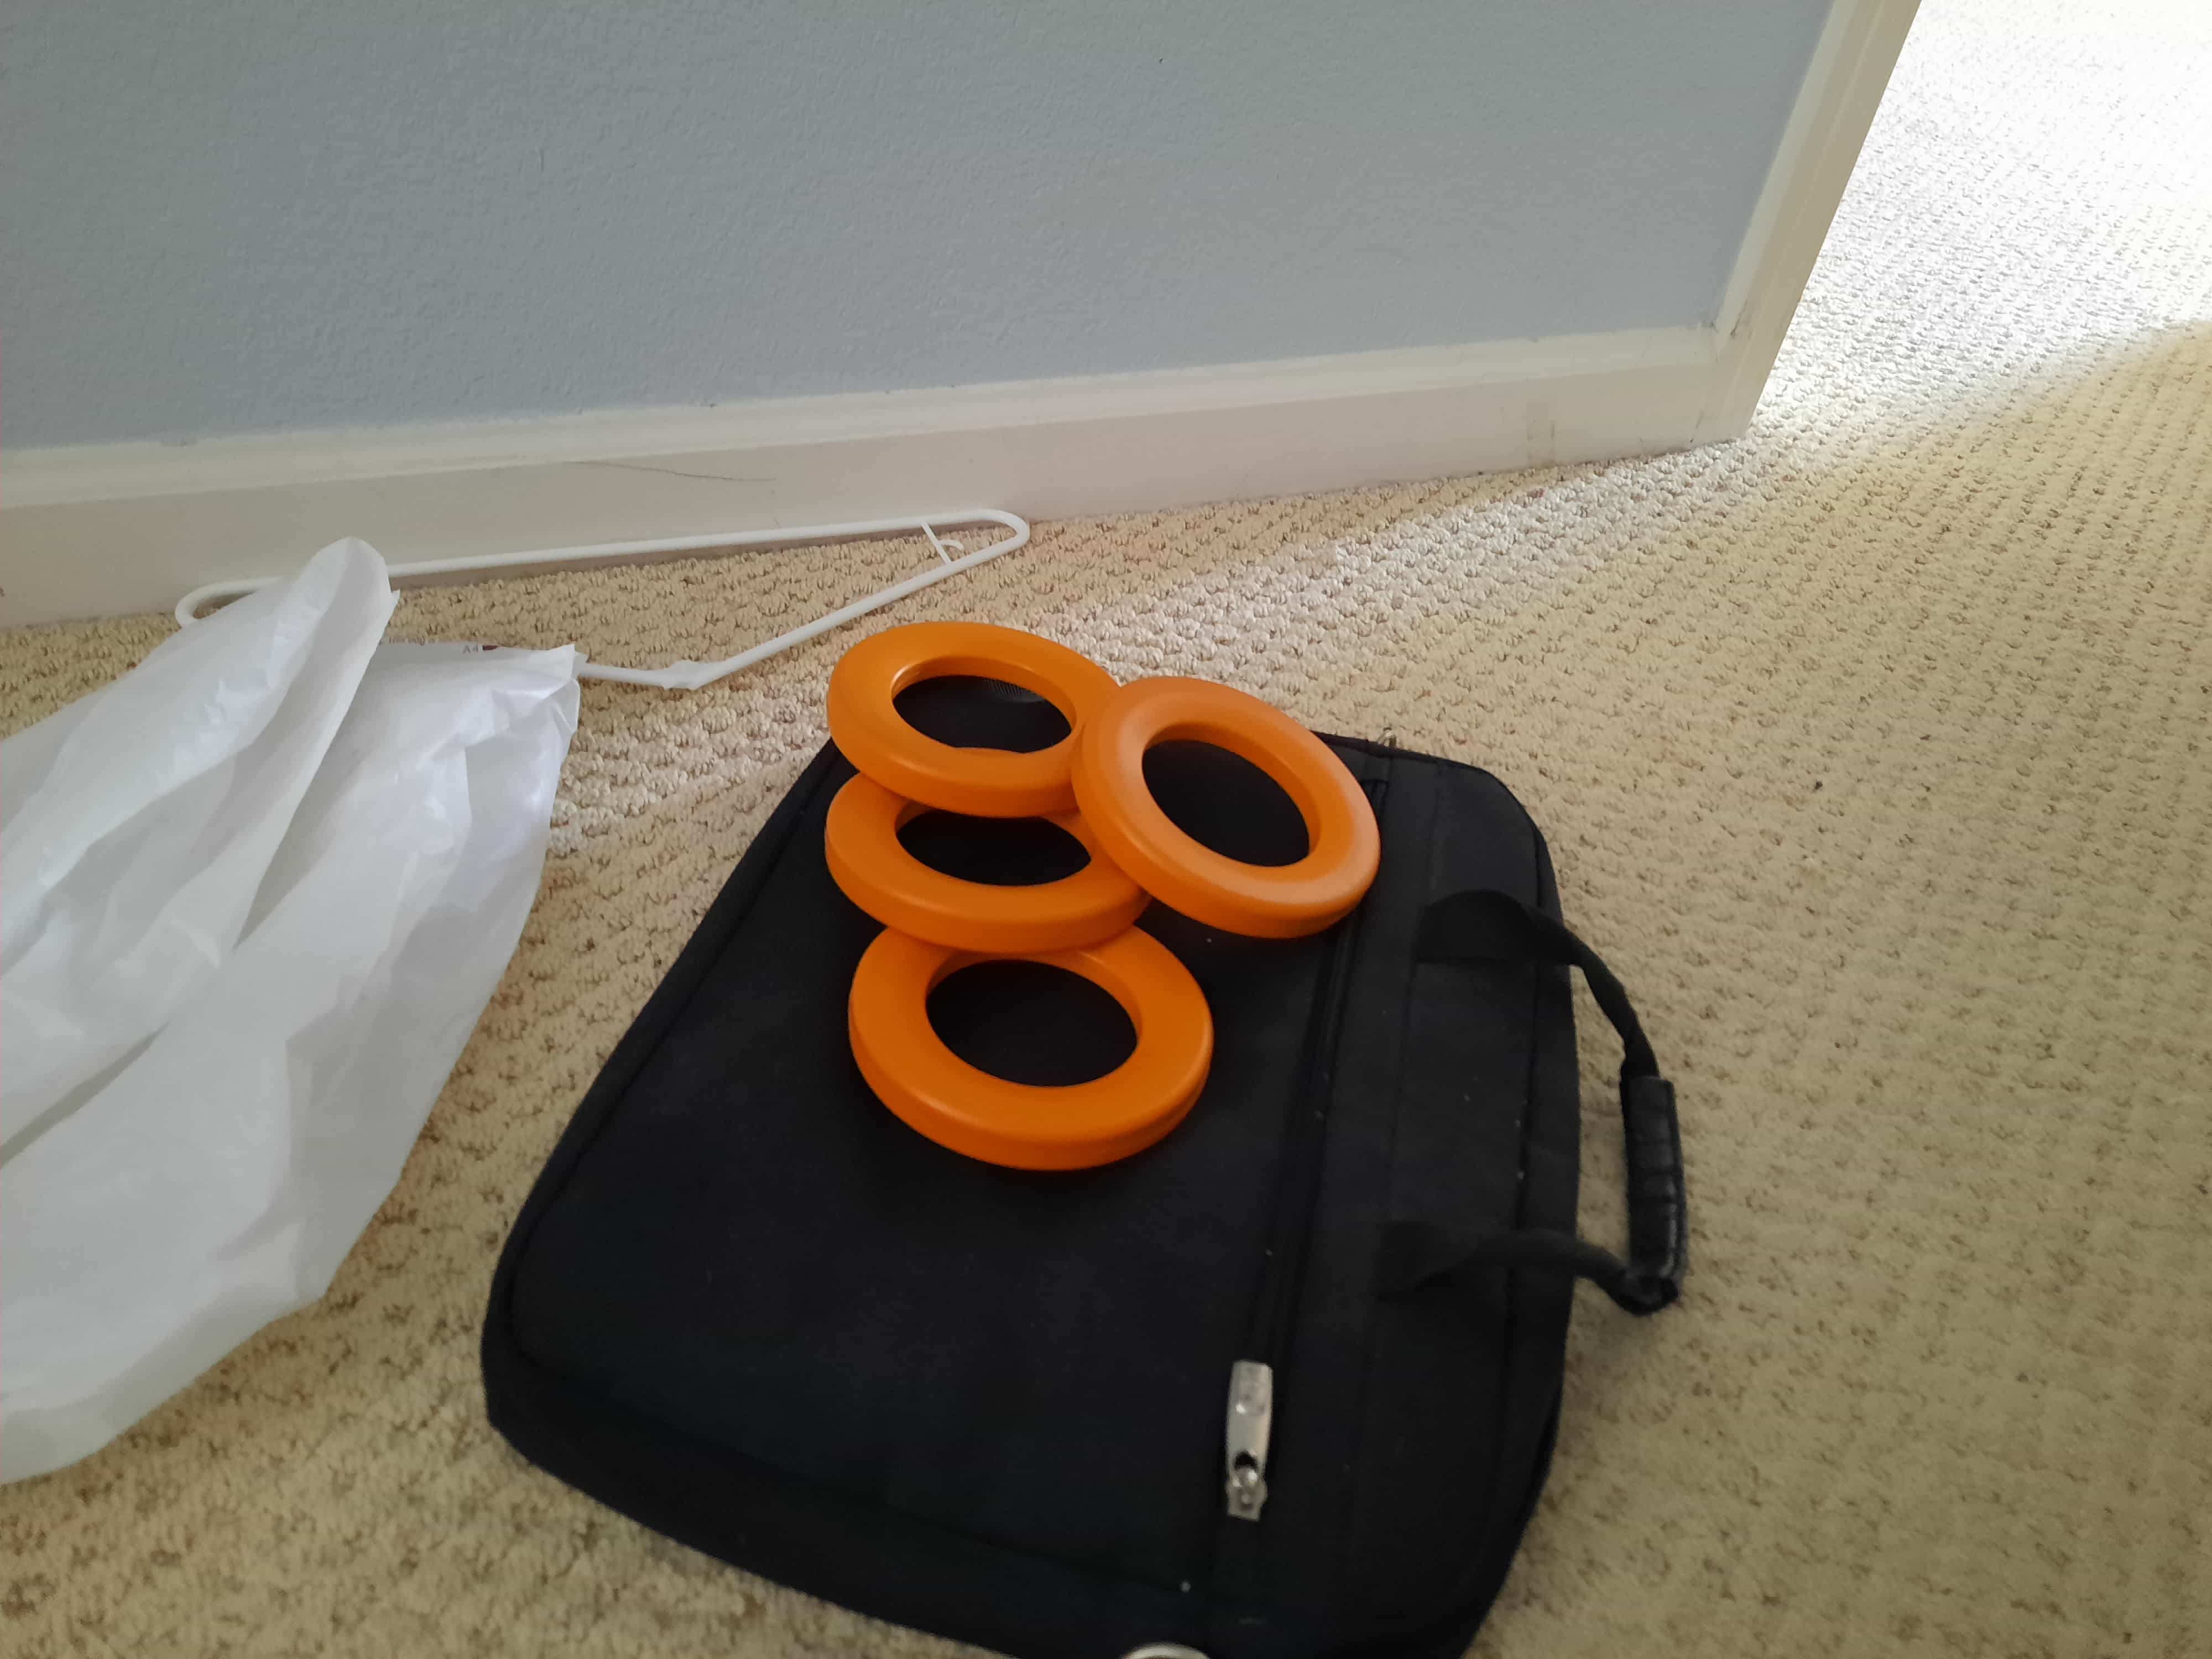OneStack: (852, 927, 1212, 1168), (1111, 676, 1386, 931), (833, 624, 1092, 786), (829, 805, 1104, 950)
